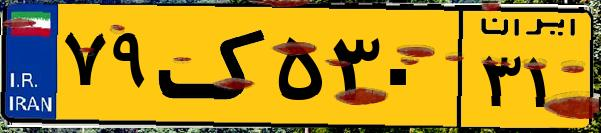0: (385, 28, 445, 110)
1: (525, 38, 570, 115)
3: (330, 28, 385, 110), (475, 38, 525, 113)
5: (270, 28, 330, 110)
7: (57, 26, 110, 100)
9: (110, 28, 158, 98)
ک: (158, 12, 270, 120)
